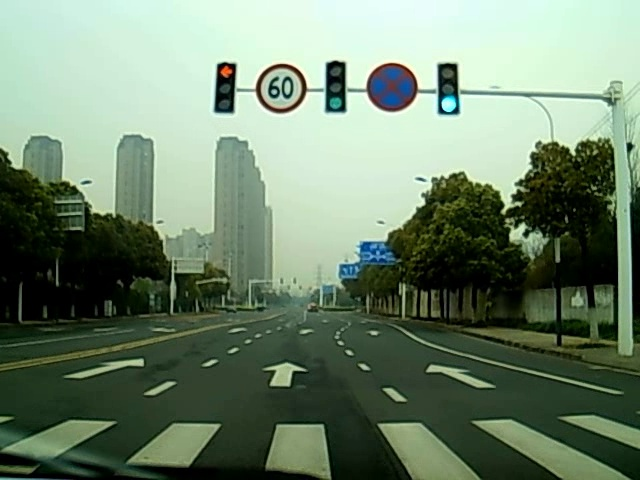Traffic_Light_go: (437, 65, 459, 115), (325, 62, 345, 115)
Traffic_Light_stop: (215, 64, 234, 112)
